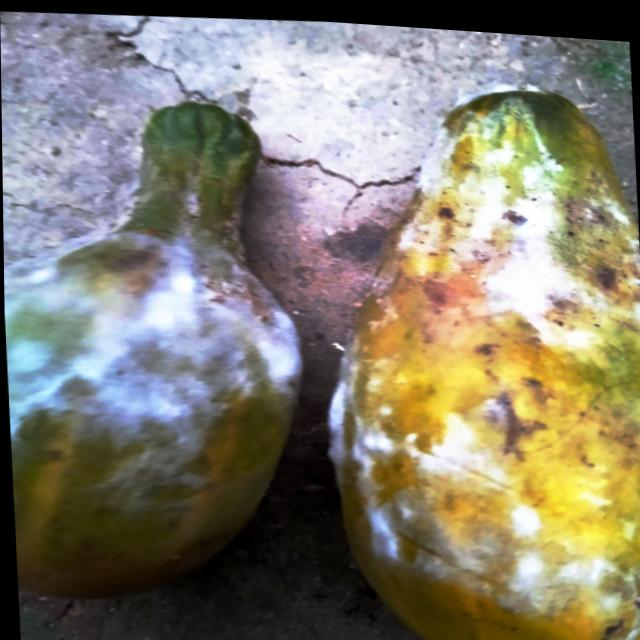Pythium-Fruit-Rot: (310, 81, 640, 639), (2, 146, 309, 510)
